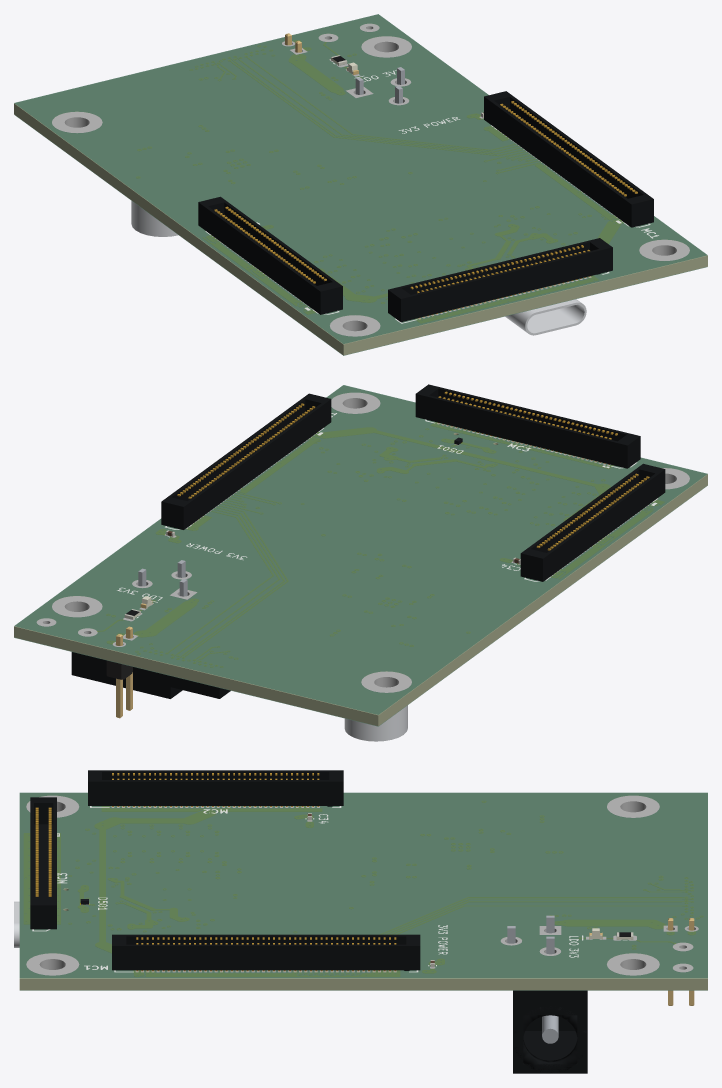
Rendered from Carrier_V41_Interactive.glb.
3 renders of one model, top to bottom at view 1: azimuth 30°, elevation 25°; view 2: azimuth 150°, elevation 25°; view 3: azimuth 270°, elevation 25°, orthographic. The views are drawn at different scales.
Parts seen in each view (by area): view 1: Carrier_V41_Public_Visualization_soldermask (×2), Carrier_V41_Public_Visualization_PCB, MC3, MC1, MC2, Carrier_V41_Public_Visualization_pad, Carrier_V41_Public_Visualization_copper, J500, C5; view 2: Carrier_V41_Public_Visualization_soldermask (×2), Carrier_V41_Public_Visualization_PCB, MC3, MC1, MC2, Carrier_V41_Public_Visualization_copper, Carrier_V41_Public_Visualization_pad, J4, C5, J1, JP1, Carrier_V41_Public_Visualization_silkscreen; view 3: Carrier_V41_Public_Visualization_soldermask (×2), Carrier_V41_Public_Visualization_PCB, MC1, MC2, J4, Carrier_V41_Public_Visualization_copper, Carrier_V41_Public_Visualization_pad, MC3, Carrier_V41_Public_Visualization_silkscreen.
Boxes of the visible parts, x1,y1,x2,y2 form: Carrier_V41_Public_Visualization_soldermask (×2): (14,14,707,355); Carrier_V41_Public_Visualization_PCB: (14,15,707,355); MC3: (388,238,612,322); MC1: (484,91,653,227); MC2: (198,196,342,314); Carrier_V41_Public_Visualization_pad: (52,23,689,336); Carrier_V41_Public_Visualization_copper: (136,40,622,322); J500: (505,299,586,335); C5: (131,201,178,236); Carrier_V41_Public_Visualization_soldermask (×2): (14,385,707,726); Carrier_V41_Public_Visualization_PCB: (14,386,707,726); MC3: (415,384,640,468); MC1: (161,393,331,529); MC2: (520,463,665,581); Carrier_V41_Public_Visualization_copper: (97,422,663,666); Carrier_V41_Public_Visualization_pad: (36,392,689,692); J4: (71,560,187,698); C5: (344,705,407,741); J1: (133,667,230,698); JP1: (106,626,132,718); Carrier_V41_Public_Visualization_silkscreen: (117,413,657,618); Carrier_V41_Public_Visualization_soldermask (×2): (19,792,707,990); Carrier_V41_Public_Visualization_PCB: (19,793,707,990); MC1: (112,934,420,971); MC2: (88,770,343,806); J4: (507,915,587,1073); Carrier_V41_Public_Visualization_copper: (24,801,699,976); Carrier_V41_Public_Visualization_pad: (26,795,698,975); MC3: (30,797,56,929); Carrier_V41_Public_Visualization_silkscreen: (32,806,627,972).
Size of the model in its own units: 0.053 by 0.0163 by 0.0837.
